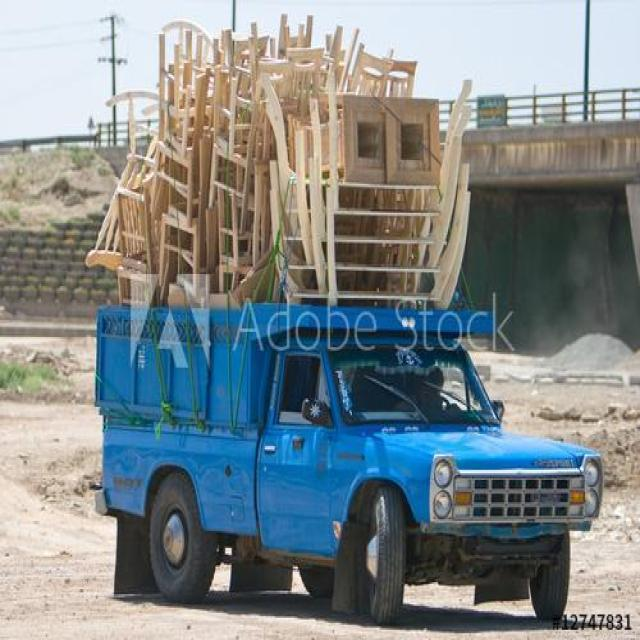uncovered: (108, 0, 590, 591)
